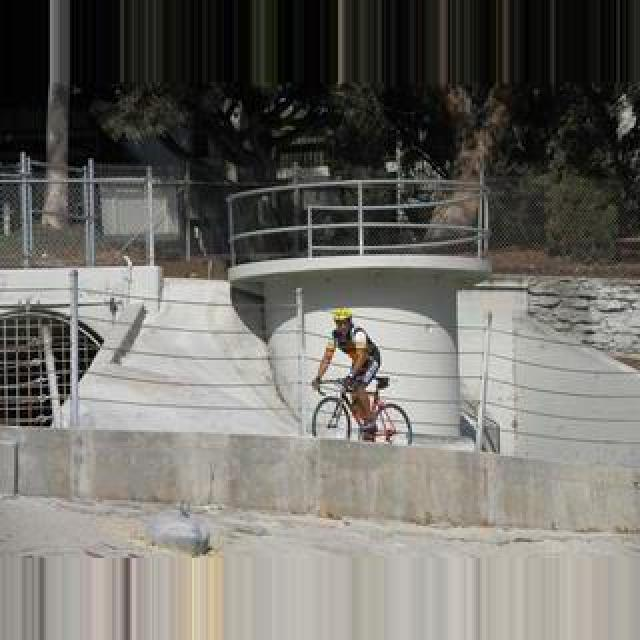MC-Bike: (314, 308, 382, 430)
Person: (309, 372, 413, 444)
